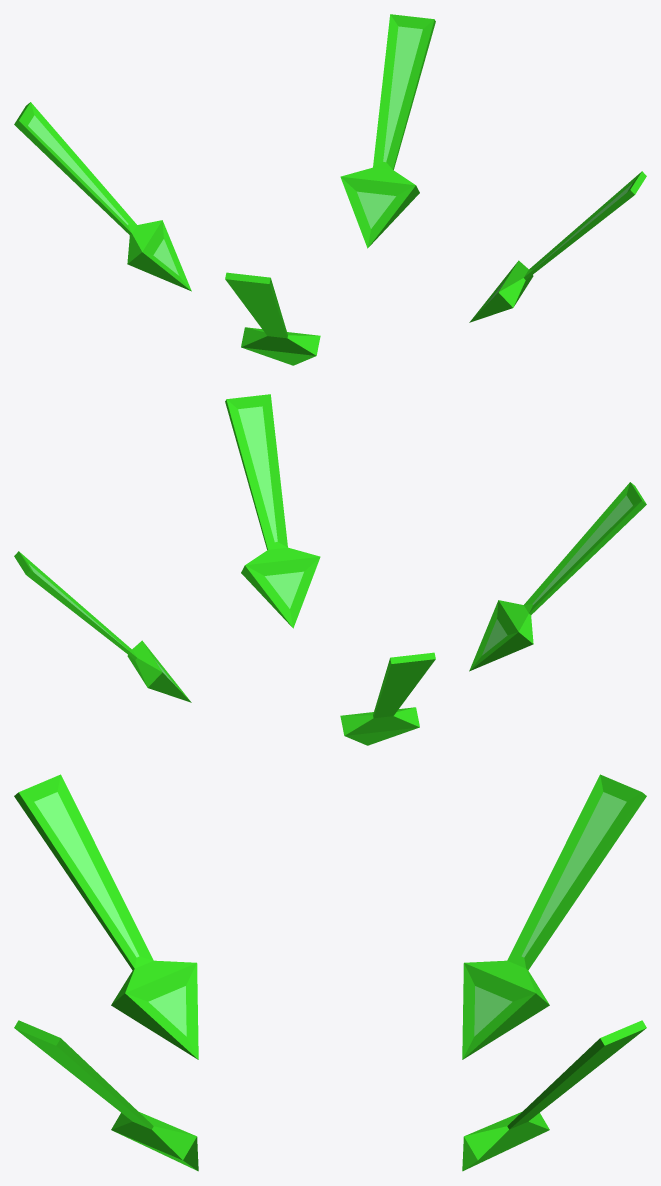
Rendered from movement_indicator.glb.
3 views of the same model, one above another, from view 1: azimuth 30°, elevation 25°; view 2: azimuth 150°, elevation 25°; view 3: azimuth 270°, elevation 25° (orthographic). The views are drawn at different scales.
Visible parts, largest first — view 1: Arrow; view 2: Arrow; view 3: Arrow.
Boxes of the visible parts, box(x1,y1,x2,y2) form: Arrow: box(14, 14, 646, 365); Arrow: box(14, 394, 646, 745); Arrow: box(14, 774, 646, 1171).
Bounding box in the file's own units: 1.96 × 0.7176 × 1.96.
1 material, 1 textured.
